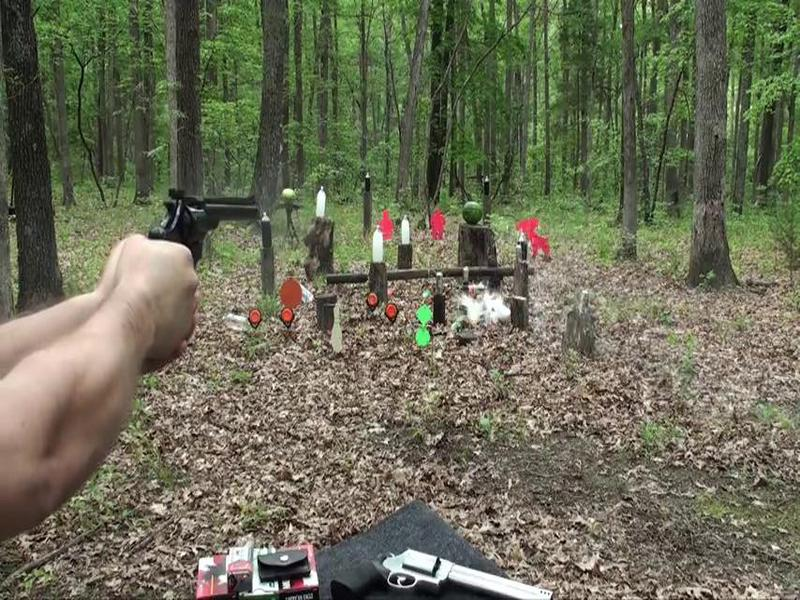Revolver: (144, 163, 287, 280)
